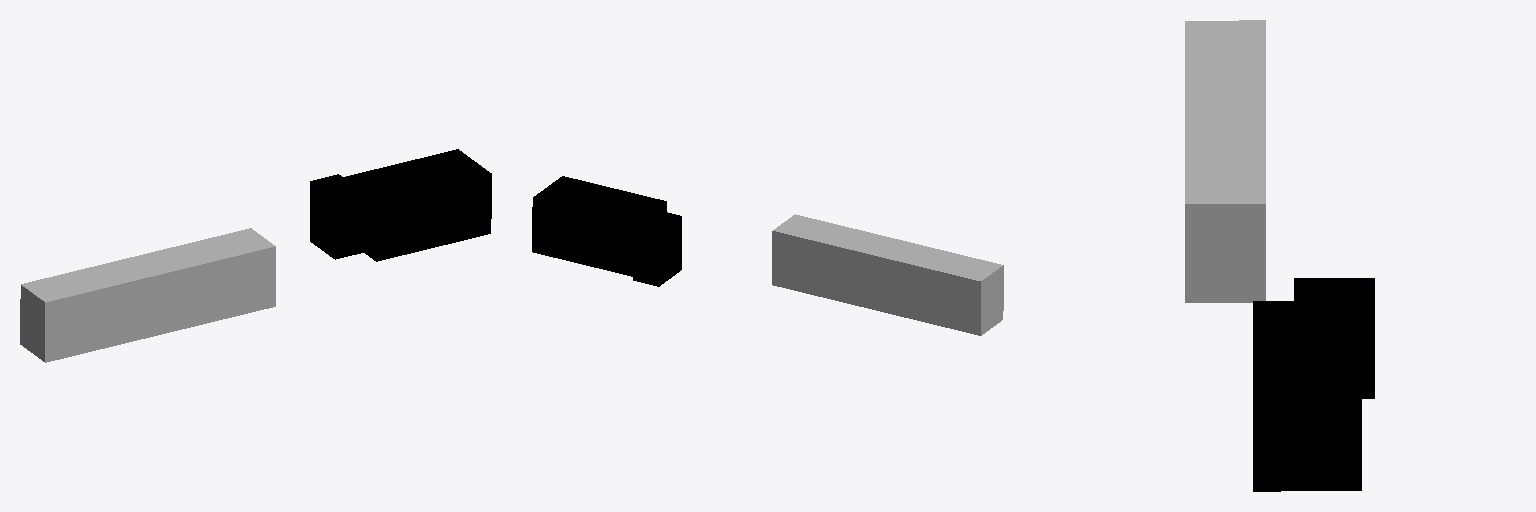
URDF robot description (exoedu-color):
<?xml version="1.0"?>
  <!-- The urdf model of eduexo robot arm, assign xyz movement on joint, assign rotation of link on link -->
<robot name="exoedu-color">
  <material name="omni/Blue">
    <color rgba="0 0 0.8 1"/>
  </material>
  <material name="omni/Red">
    <color rgba="1 0 0 1"/>
  </material>
  <material name="omni/Green">
    <color rgba="0 1 0 1"/>
  </material>
  <material name="omni/Yellow">
    <color rgba="1 1 0 1"/>
  </material>
  <material name="omni/LightGrey">
    <color rgba="1.0 1.0 1.0 1"/>
  </material>
  <material name="omni/DarkGrey">
    <color rgba="0.4 0.4 0.4 1"/>
  </material>
  <material name="omni/Black">
    <color rgba="0 0 0 1"/>
  </material>
  <material name="omni/Silver">
    <color rgba="0.75 0.75 0.75 1"/>
  </material>

  <link name="base_link">
    <inertial>
      <origin rpy="0 0 0" xyz="0 0 0 "/>
      <mass value="0"/>
      <inertia ixx="89.282" ixy="-0.47721" ixz="0.85562" iyy="107.51" iyz="0.0067576" izz="172.02"/>
    </inertial>
  </link>

  <joint name="base_motor" type="fixed">
    <parent link="base_link"/>
    <child link="motor"/>
    <origin rpy="-1.57 0 0" xyz="-0.025 0 0.15"/>
    <axis xyz="1 0 0"/>
  </joint>
  <link name="motor">
    <visual>
      <origin rpy="0 0 0" xyz="0 0 0"/>
      <geometry>
        <box size="0.20 0.10 0.10"/>
      </geometry>
      <material name="omni/Black"> <color rgba="0 0 0 1"/> </material>
    </visual>
  </link>

  <joint name="motor_adapter" type="fixed">
    <parent link="motor"/>
    <child link="motor_adapter"/>
    <origin rpy="0 0 0" xyz="0 -0.035 -0.15"/>
    <axis xyz="1 0 0"/>
  </joint>
  <link name="motor_adapter">
    <visual>
      <origin rpy="0 0 0" xyz="0 0 0"/>
      <geometry>
        <mesh filename="EduExo_STL_files/MotorAdapter.stl" scale="0.005 0.005 0.005"/>
      </geometry>
      <material name="omni/LightGrey"> <color rgba="1 1 1 1"/> </material>
    </visual>
  </link>

  <joint name="motor_extendJoint" type="fixed">
    <parent link="motor"/>
    <child link="motor_extend"/>
    <origin rpy="0 0 0" xyz="-0.125 0 0.025"/>
    <axis xyz="1 0 0"/>
  </joint>
  <link name="motor_extend">
    <visual>
      <origin rpy="0 0 0" xyz="0 0 0"/>
      <geometry>
        <box size="0.05 0.10 0.075"/>
      </geometry>
      <material name="omni/Black"/>
    </visual>
  </link>

  <joint name="adapter_upper_joint" type="fixed">
    <parent link="motor_adapter"/>
    <child link="upper_arm"/>
    <origin rpy="0 0 0" xyz="0.125 0.06 0"/>
    <axis xyz="1 0 0"/>
  </joint>
  <link name="upper_arm">
    <visual>
      <origin rpy="1.57 -1.57 1.57" xyz="0 0 0"/>
      <geometry>
        <mesh filename="EduExo_STL_files/Upper_Arm_Segment.stl" scale="0.005 0.005 0.005"/>
      </geometry>
        <material name="omni/LightGrey"> <color rgba="1 1 1 1"/> </material>
    </visual>
  </link>

  <joint name="arm_cuff0" type="fixed">
    <parent link="upper_arm"/>
    <child link="upper_cuff0"/>
    <origin rpy="0 0 0" xyz="0.15 0.025 -0.025"/>
    <axis xyz="1 0 0"/>
  </joint>
  <link name="upper_cuff0">
    <visual>
      <origin rpy="1.57 -1.57 1.57" xyz="0 0 0"/>
      <geometry>
        <mesh filename="EduExo_STL_files/EduExoCuffs/Upper_Arm_Cuff_70.stl" scale="0.005 0.005 0.005"/>
      </geometry>
        <material name="omni/LightGrey"> <color rgba="1 1 1 1"/> </material>
    </visual>
  </link>


  <joint name="arm_cuff1" type="fixed">
    <parent link="upper_arm"/>
    <child link="upper_cuff1"/>
    <origin rpy="0 0 0" xyz="0.60 0.025 -0.025"/>
    <axis xyz="1 0 0"/>
  </joint>
  <link name="upper_cuff1">
    <visual>
      <origin rpy="1.57 -1.57 1.57" xyz="0 0 0"/>
      <geometry>
        <mesh filename="EduExo_STL_files/EduExoCuffs/Upper_Arm_Cuff_70.stl" scale="0.005 0.005 0.005"/>
      </geometry>
        <material name="omni/LightGrey"> <color rgba="1 1 1 1"/> </material>
    </visual>
  </link>

  <joint name="motor_sensorAdapter" type="revolute">
    <parent link="motor"/>
    <child link="sensor_adapter"/>
    <dynamics damping="3.0" friction="0.3"/>
    <limit effort="30.0" lower="-3.1415926535" upper="3.1415926535" velocity="5.0"/>
    <origin rpy="0 0 0" xyz="0 0 -0.05"/>
    <axis xyz="0 0 1"/>
  </joint>
  <link name="sensor_adapter">
    <visual>
      <origin rpy="3.14 0 0" xyz="0 0 0"/>
      <geometry>
        <mesh filename="EduExo_STL_files/Interface_Motor_Sensor.stl" scale="0.005 0.005 0.005"/>
      </geometry>
      <material name="omni/LightGrey"> <color rgba="1 1 1 1"/> </material>
    </visual>
  </link>

  <joint name="sensorAdapter_sensor" type="fixed">
    <parent link="sensor_adapter"/>
    <child link="sensor"/>
    <origin rpy="0 0 0" xyz="-0.51 0 -0.025"/>
    <axis xyz="1 0 0"/>
  </joint>
  <link name="sensor">
    <visual>
      <origin rpy="0 0 0" xyz="0 0 0"/>
      <geometry>
        <box size="0.40 0.10 0.075"/>
      </geometry>
      <material name="omni/Silver"/>
    </visual>
  </link>

  <joint name="sensor_lowerArm" type="fixed">
    <parent link="sensor"/>
    <child link="lower_arm"/>
    <origin rpy="0 0 0" xyz="0 0 0"/>
    <axis xyz="1 0 0"/>
  </joint>
  <link name="lower_arm">
    <visual>
      <origin rpy="3.14 0 0" xyz="0.05 0 0.025"/>
      <geometry>
        <mesh filename="EduExo_STL_files/Lower_Arm_Segment.stl" scale="0.005 0.005 0.005"/>
      </geometry>
      <material name="omni/LightGrey"> <color rgba="1 1 1 1"/> </material>
    </visual>
  </link>

</robot>

--- What the picture shows (computed from the rendered views, not written in the file) ---
3 views of the same robot in one strip: view 1: azimuth 30°, elevation 25°; view 2: azimuth 150°, elevation 25°; view 3: azimuth 270°, elevation 25° (orthographic).
Robot: exoedu-color — 10 links, 9 joints (1 revolute, 8 fixed); root link base_link; default pose: every joint at zero.
Links seen in each view (by area): view 1: sensor, motor, motor_extend; view 2: sensor, motor, motor_extend; view 3: sensor, motor, motor_extend.
Boxes of the visible links, x1,y1,x2,y2 form: sensor: (20, 228, 275, 362); motor: (343, 149, 491, 261); motor_extend: (310, 174, 363, 259); sensor: (772, 214, 1003, 335); motor: (532, 176, 666, 276); motor_extend: (633, 210, 681, 286); sensor: (1185, 20, 1265, 302); motor: (1253, 301, 1361, 491); motor_extend: (1294, 278, 1374, 398).
Bounding box of the posed robot: 0.81 × 0.1751 × 0.1001 m (x, y, z).
Meshes: 5 distinct files referenced, 0 mesh visuals loaded (none loaded); not drawn: 6 (reference not matched to a file when rendering).